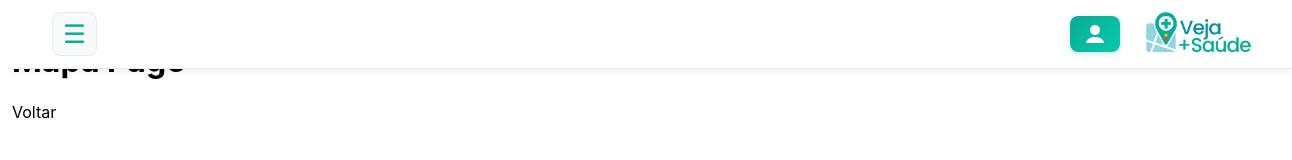
Scenario: Navegação entre Páginas - Integração › Navegação básica entre rotas › deve voltar do mapa para home
Check: the heading "Mapa Page" is shown, box [12, 41, 185, 80]
Click the link "Voltar" at [34, 112], box [12, 102, 56, 122]
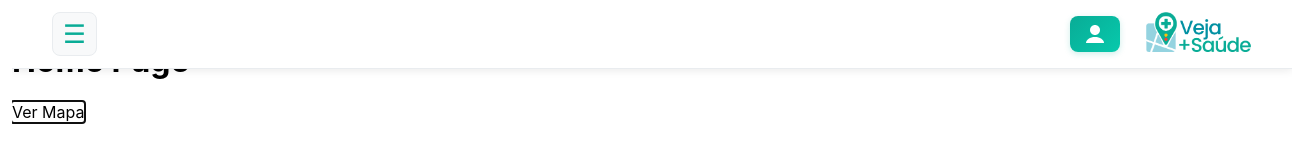
Check: the heading "Home Page" is shown, box [12, 41, 190, 80]
